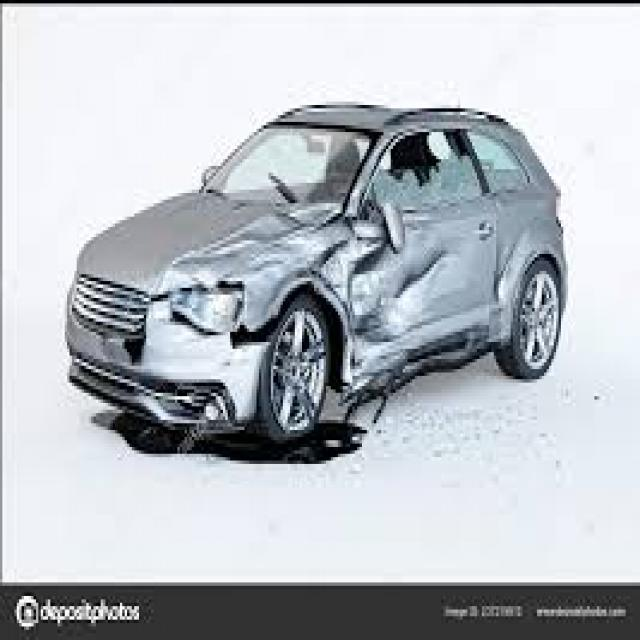severe: (170, 118, 556, 450)
